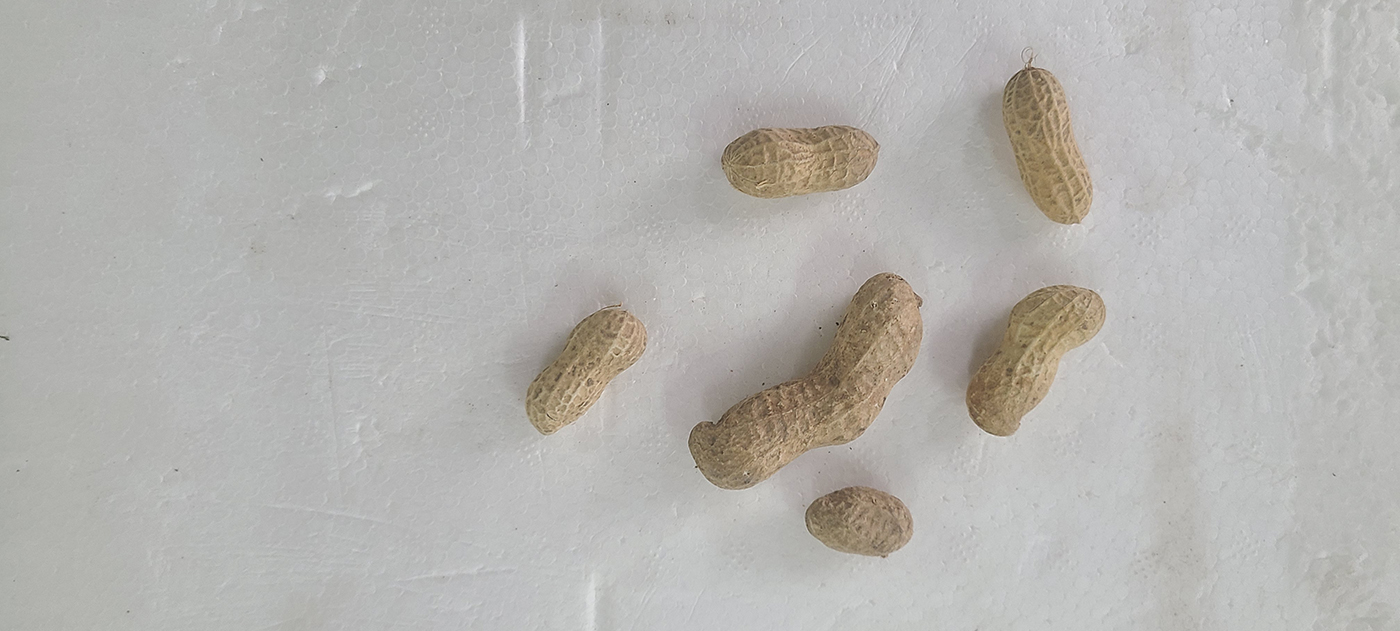h: (688, 272, 924, 492), (964, 281, 1106, 439), (527, 308, 648, 434), (1001, 68, 1094, 227), (722, 123, 881, 196)
l: (806, 487, 914, 554)
